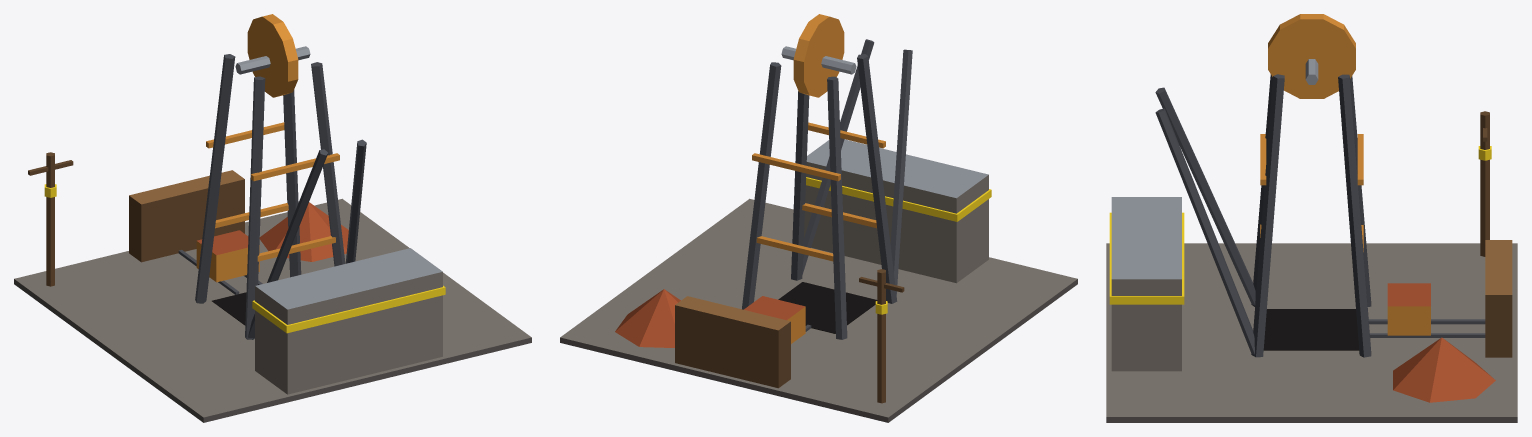
File: deep_mine.glb
3 renders of one model, left to right at view 1: azimuth 30°, elevation 25°; view 2: azimuth 150°, elevation 25°; view 3: azimuth 270°, elevation 25°, orthographic. The views are drawn at different scales.
Visible parts, largest first — view 1: deep_mine; view 2: deep_mine; view 3: deep_mine.
Part boxes in pixels (x1=…): deep_mine: x1=14, y1=14, x2=531, y2=422; deep_mine: x1=560, y1=14, x2=1077, y2=422; deep_mine: x1=1106, y1=14, x2=1517, y2=422.
Size of the model in its own units: 3.8 by 3.26 by 3.8.
